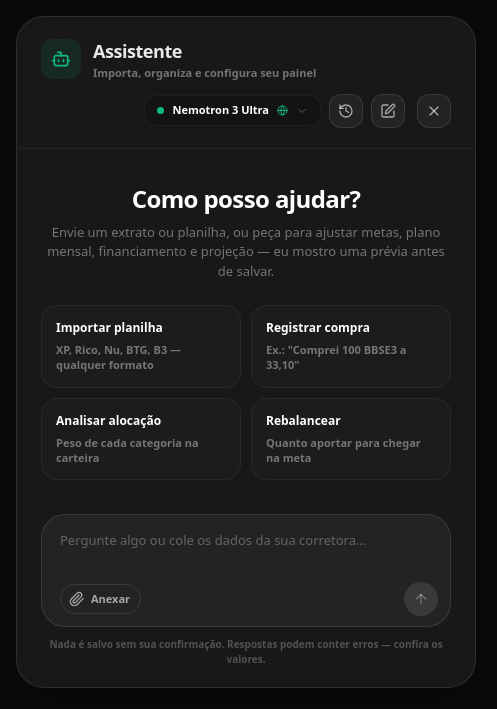
it: FloatingChat › closes back to the launcher
Click the button named "Fechar assistente": x=434, y=110 [417,94,451,128]
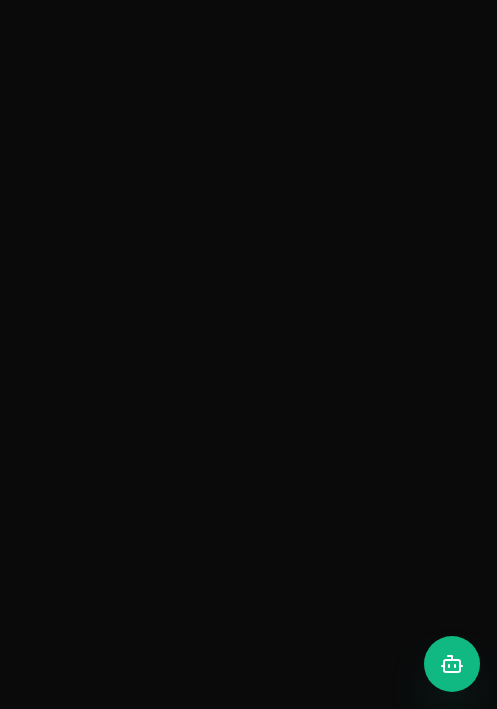
Now the button named "Abrir assistente" is shown, box [424,636,480,692]
